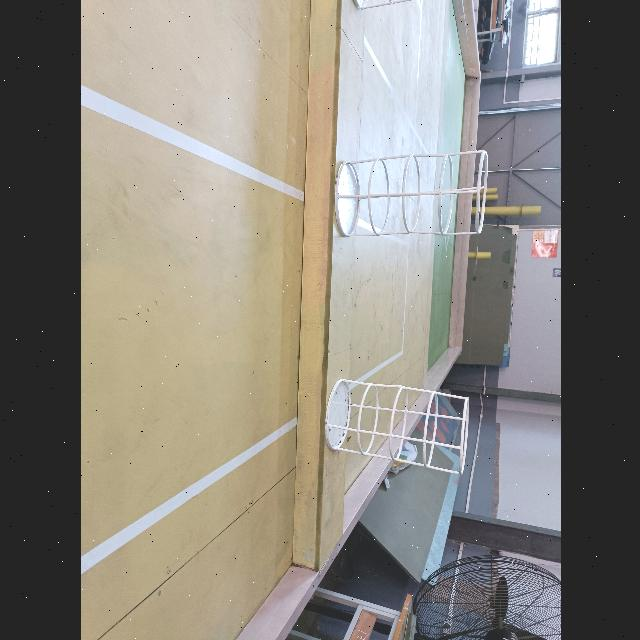S: (319, 375, 472, 477), (332, 147, 491, 240)
